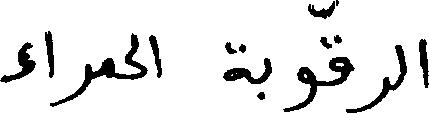X: (285, 0, 314, 112), (322, 0, 349, 112), (351, 59, 388, 112), (54, 59, 89, 110), (0, 37, 33, 87), (127, 28, 145, 84), (225, 37, 246, 85), (257, 53, 269, 104), (45, 26, 52, 111), (149, 30, 159, 82), (421, 34, 428, 92), (397, 40, 404, 92), (102, 53, 112, 82)
